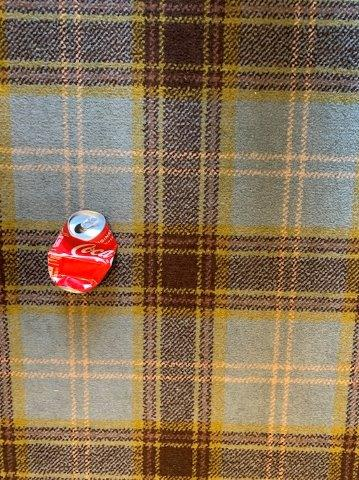kaleng: (50, 211, 115, 292)
